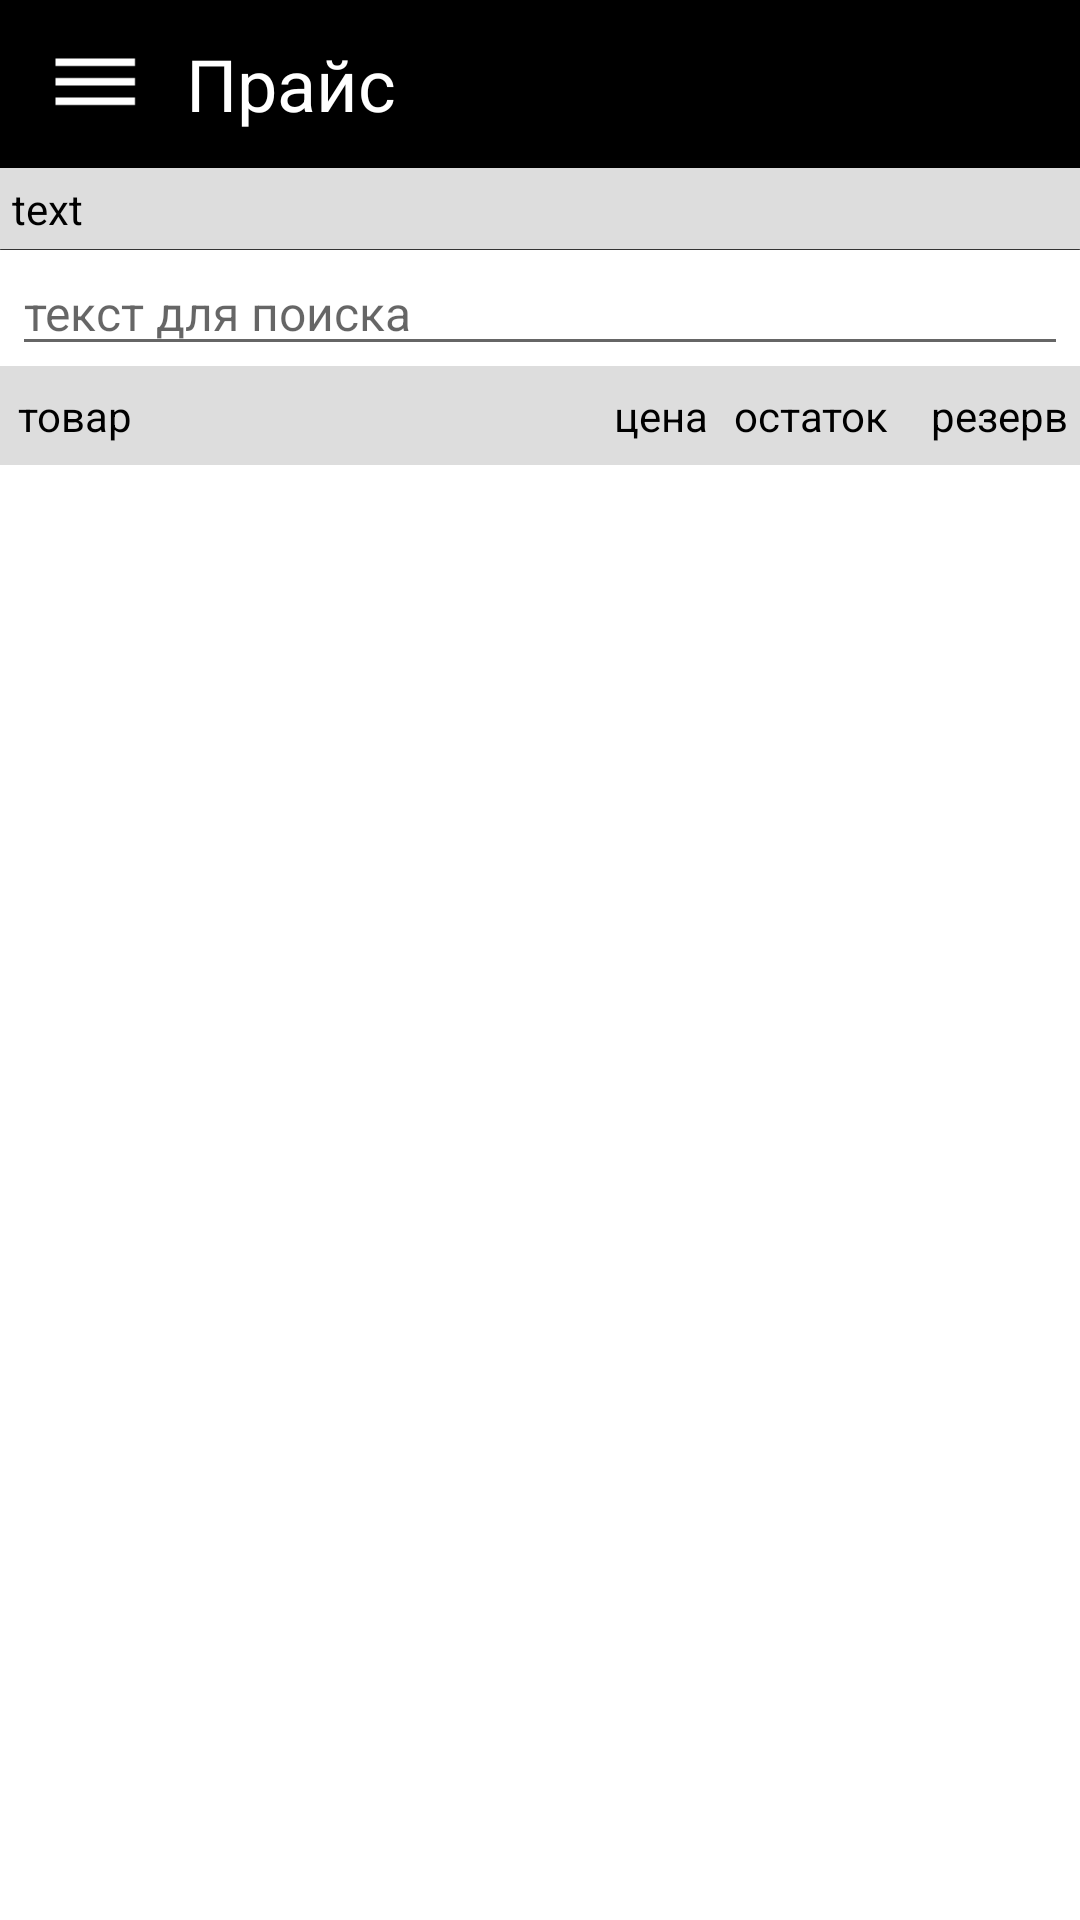

Icons on this 1080px×1920px Android screen, each with its box as detection(x1, y1, x2, y2):
mainmenu: detection(55, 58, 136, 106)
